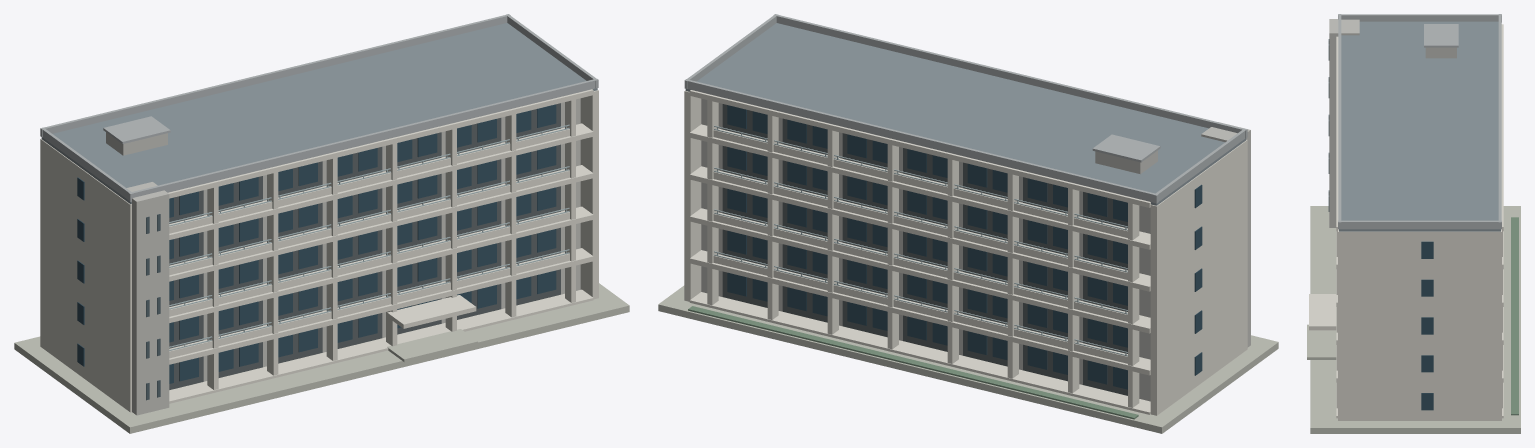
The picture shows the model from 3 angles, left to right: view 1: azimuth 30°, elevation 25°; view 2: azimuth 150°, elevation 25°; view 3: azimuth 270°, elevation 25°; orthographic projection. The views are drawn at different scales.
Bounding box in the file's own units: 38.4 × 17.1 × 15.63.
